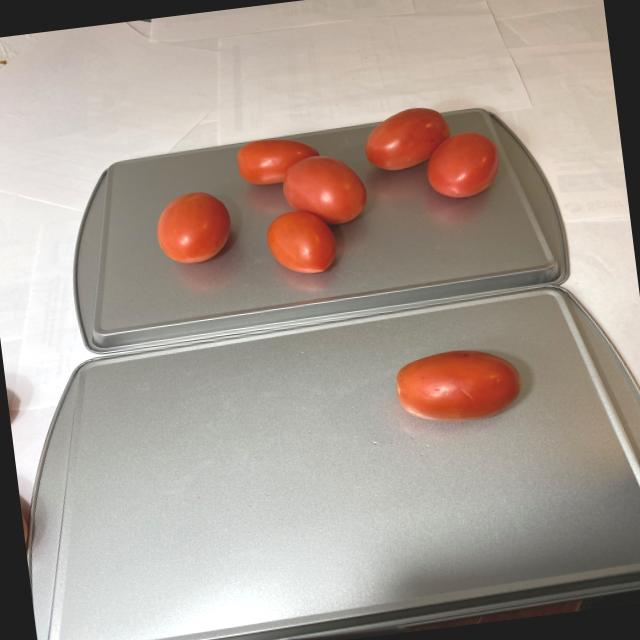tomato: (127, 100, 515, 300), (389, 336, 538, 429)
